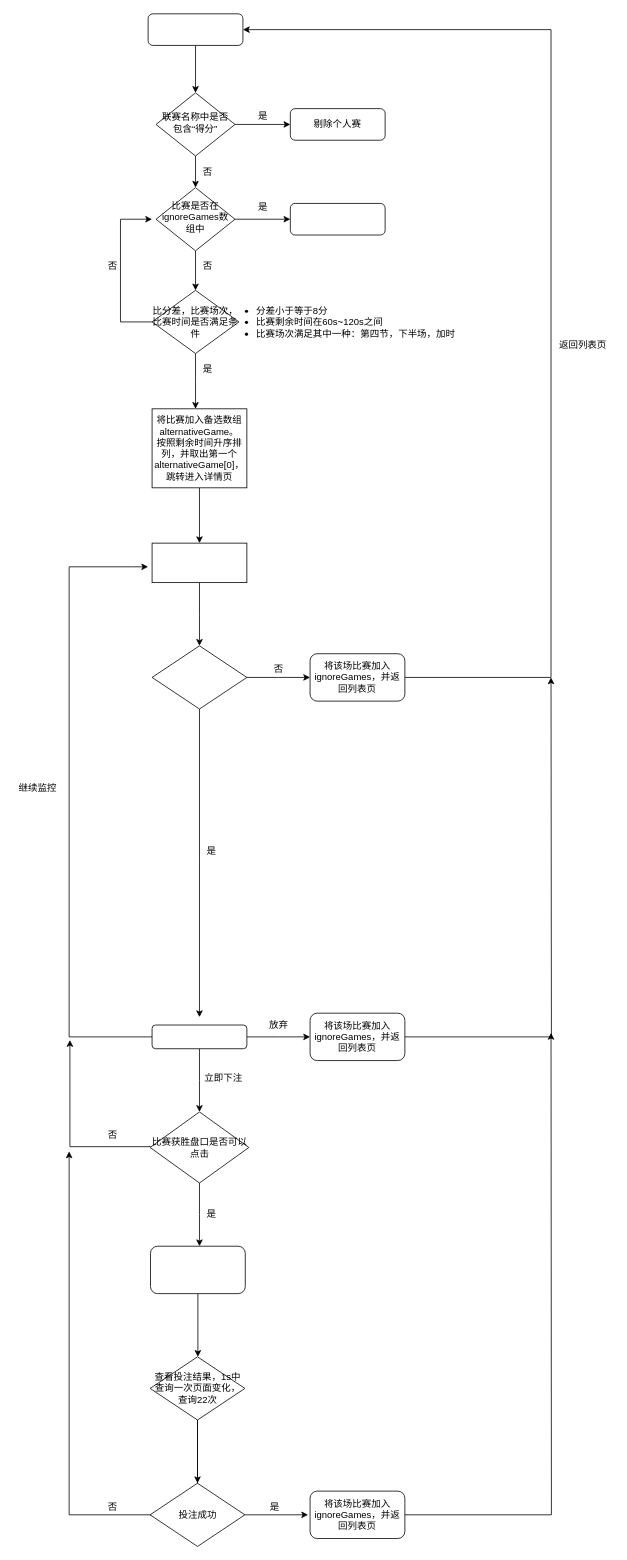
The diagram is 627 pixels wide and 1560 high, and some of its shapes have lost their labels. The centre of each missing label's shape, as x and y in pixels:
忽略该场比赛: [337,219]
比赛时间是否大于60s: [199,677]
点击盘口对应球队下注: [197,1269]
请求下注: [199,1036]
进入列表页，遍历所有比赛: [195,29]
进入详情页，监控开始: [199,562]
